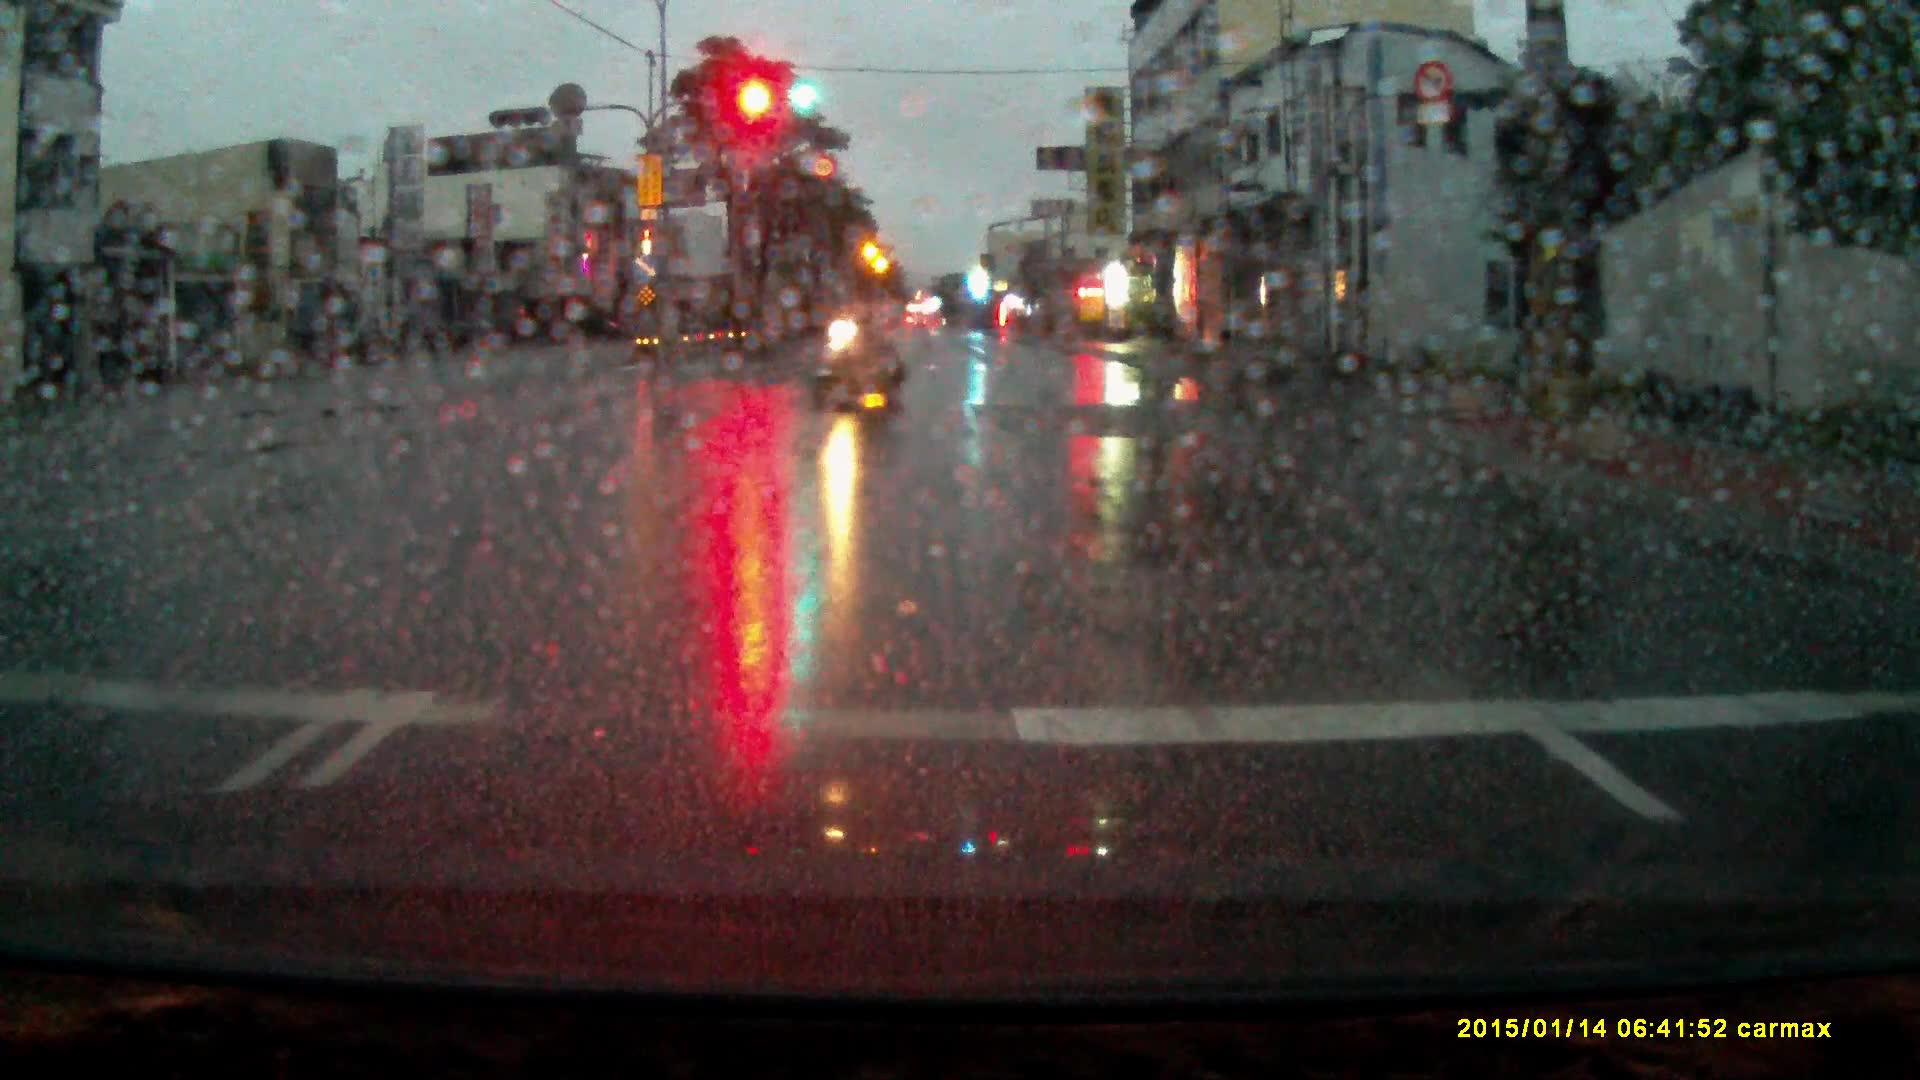rider: (816, 273, 903, 415)
